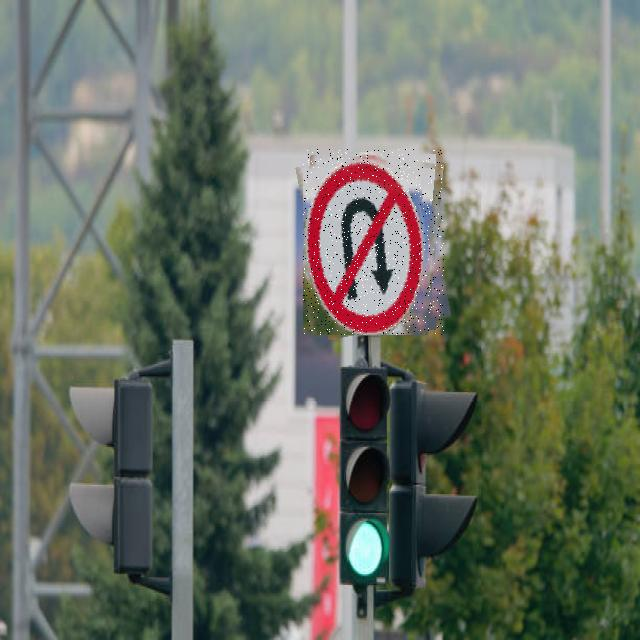no u turn: (303, 149, 444, 335)
